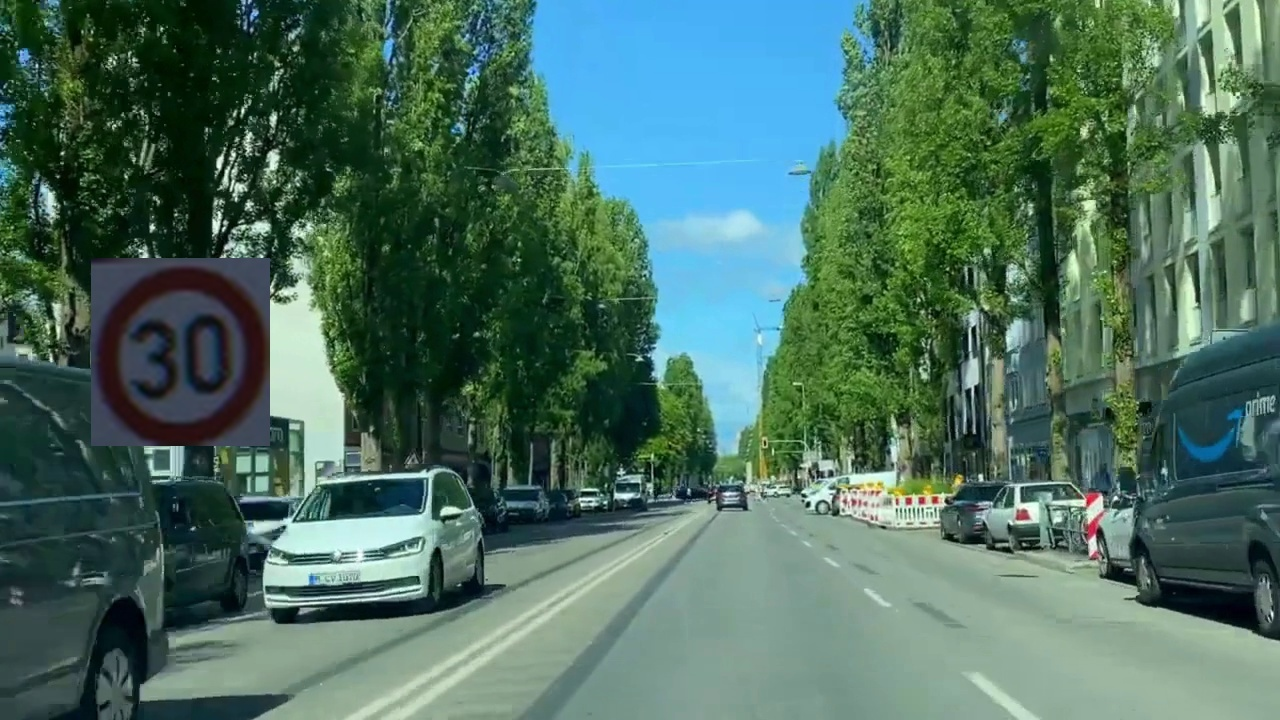Speed 30: (91, 258, 270, 446)
